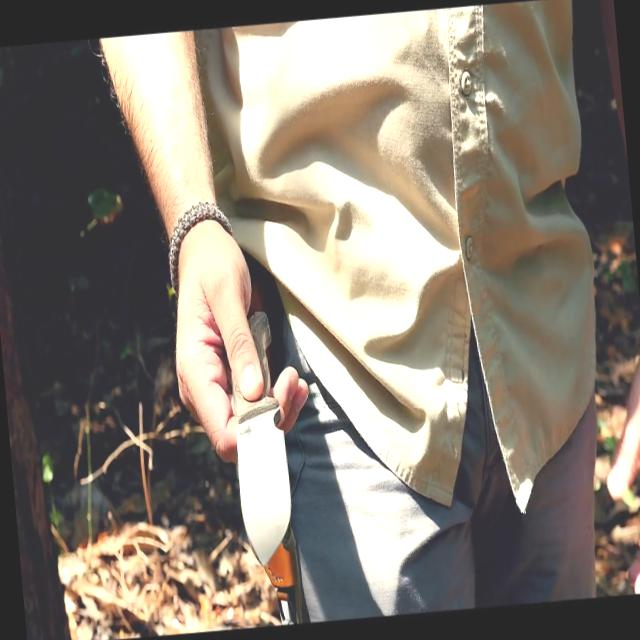knife: (166, 302, 327, 578)
